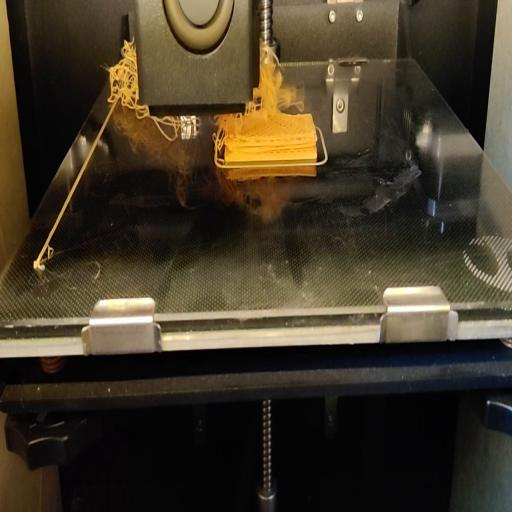spaghetti: (105, 38, 140, 124), (142, 106, 190, 136)
